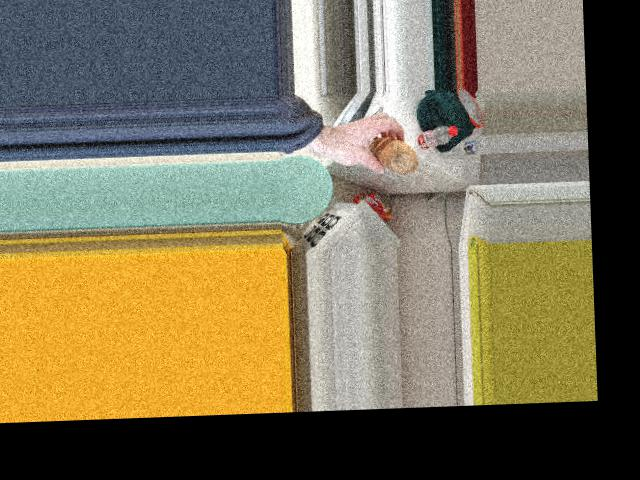sweet_potato: (368, 133, 418, 175)
